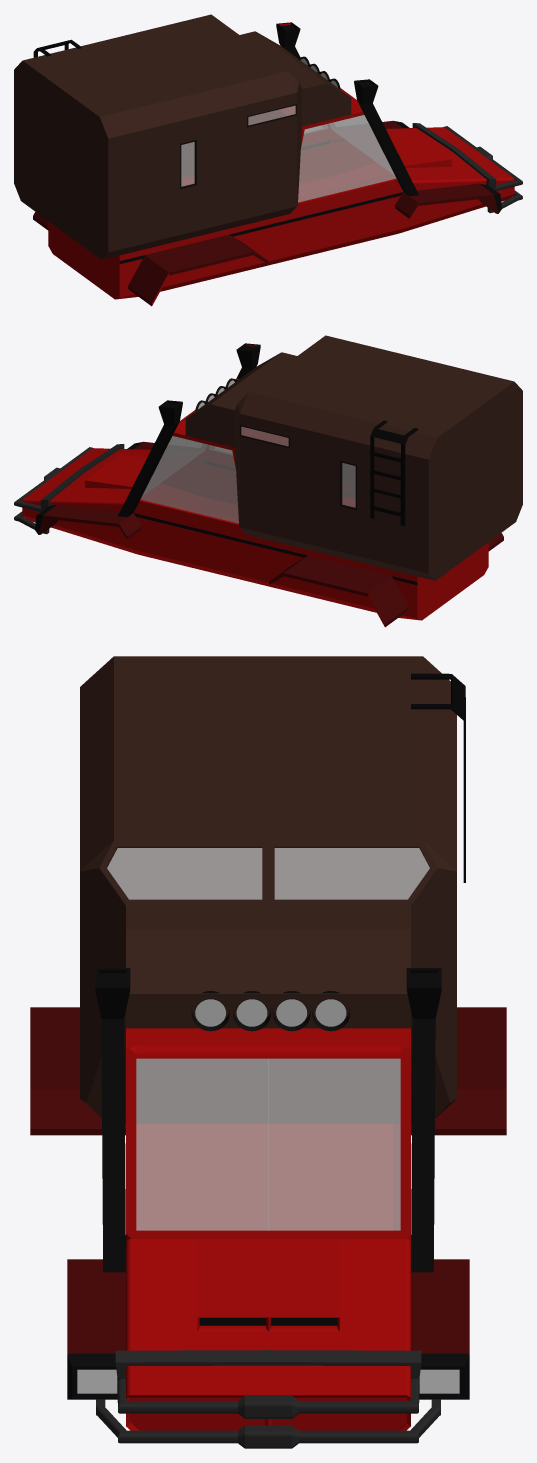
File: CarChasis_Red.obj
3 views of the same model, one above another, from view 1: azimuth 30°, elevation 25°; view 2: azimuth 150°, elevation 25°; view 3: azimuth 270°, elevation 25° (orthographic). The views are drawn at different scales.
Parts seen in each view (by area): view 1: Cube.002, Cube.001, Cube.003; view 2: Cube.002, Cube.001, Plane.001, Cube.003; view 3: Cube.002, Cube.001, Cube.003, Circle.007, Plane.001.
Part boxes in pixels (x1=…): Cube.002: x1=14, y1=14, x2=351, y2=259; Cube.001: x1=33, y1=22, x2=514, y2=306; Cube.003: x1=412, y1=123, x2=522, y2=213; Cube.002: x1=185, y1=335, x2=522, y2=580; Cube.001: x1=22, y1=343, x2=503, y2=627; Plane.001: x1=370, y1=420, x2=418, y2=526; Cube.003: x1=14, y1=444, x2=124, y2=534; Cube.002: x1=80, y1=656, x2=456, y2=1123; Cube.001: x1=30, y1=968, x2=506, y2=1430; Cube.003: x1=96, y1=1350, x2=440, y2=1448; Circle.007: x1=191, y1=991, x2=349, y2=1031; Plane.001: x1=411, y1=673, x2=465, y2=882.
Bounding box in the file's own units: 3.59 × 1.6 × 1.74.
